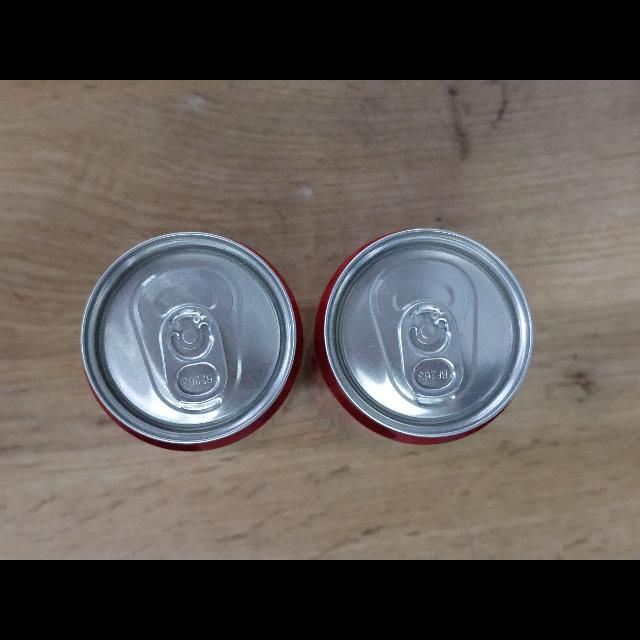coca_cola: (81, 233, 303, 447), (315, 229, 533, 444)
